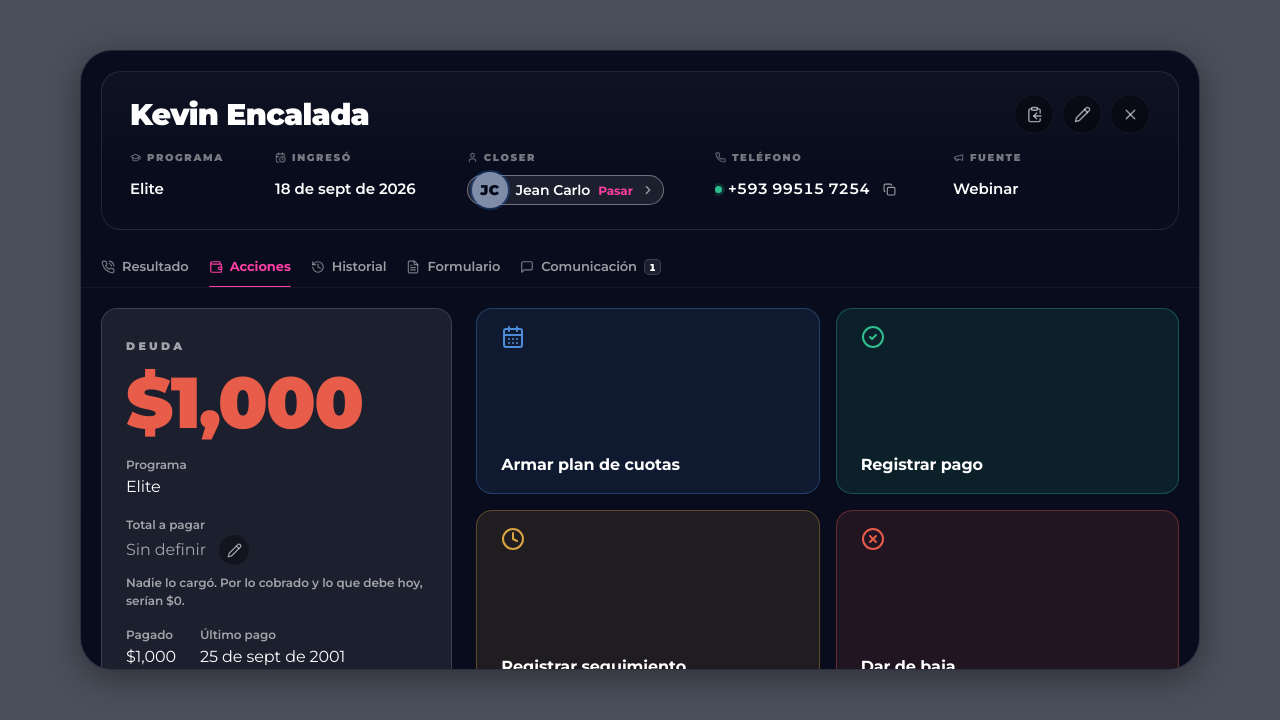
la franja en modo edición › trae los datos guardados en campos, en el lugar de la franja
Expected: the tab "Acciones" is shown, [209,246,291,287]
Click the button named "Editar los datos del lead".
click(1082, 114)  # box [1062,94,1102,134]
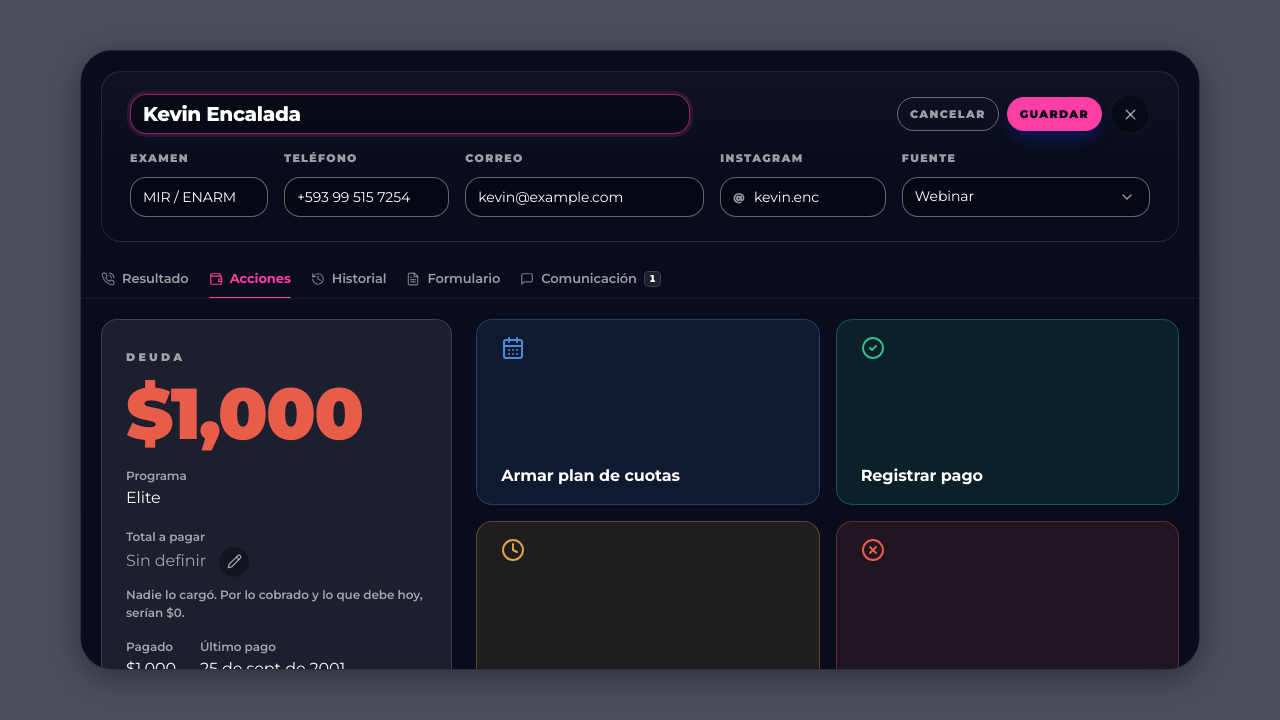
Now the field named "Nombre del lead" holds "Kevin Encalada", box [143,95,677,133]
Now the field labelled "Teléfono" holds "+593 99 515 7254", box [297,178,436,216]
Now the field labelled "Correo" holds "kevin@example.com", box [478,178,691,216]
